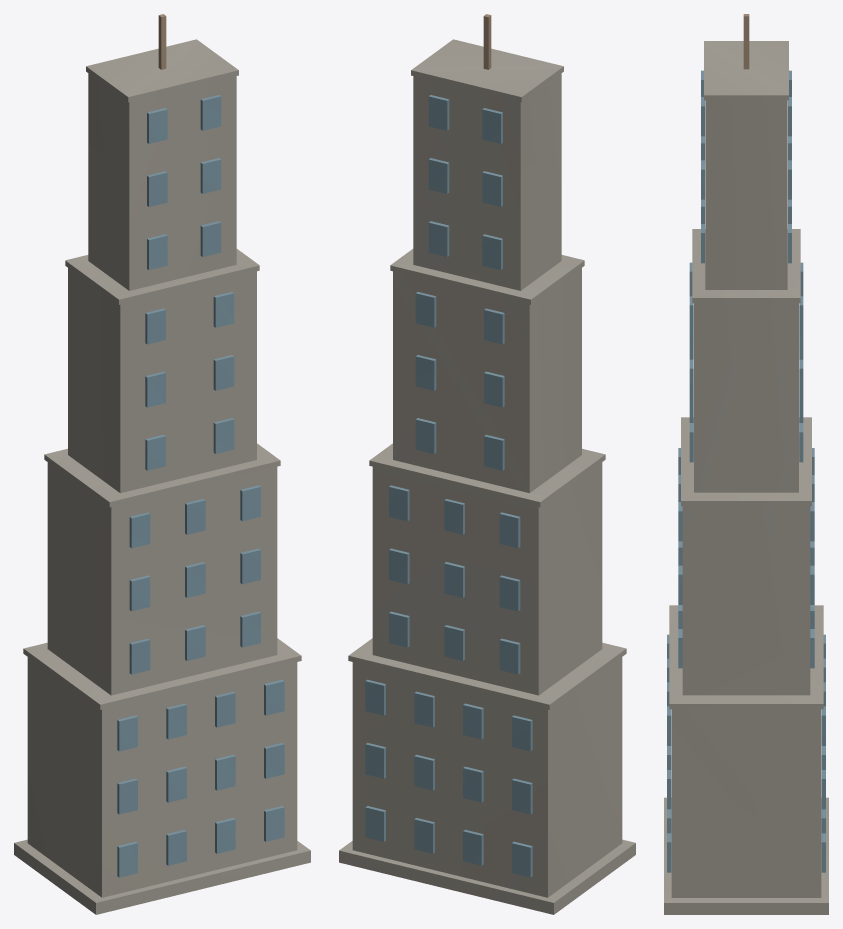
The model's file is tower-02.glb.
3 views of the same model, side by side, from view 1: azimuth 30°, elevation 25°; view 2: azimuth 150°, elevation 25°; view 3: azimuth 270°, elevation 25° (orthographic).
Parts seen in each view (by area): view 1: world; view 2: world; view 3: world.
Part boxes in pixels (x1,y1,x2,y2): world: (14, 14, 310, 914); world: (339, 14, 635, 914); world: (664, 14, 828, 914).
Size of the model in its own units: 1.5 by 5.61 by 0.99.
